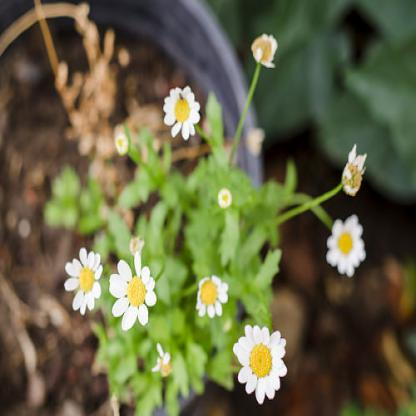ASTER: (49, 23, 390, 415)
